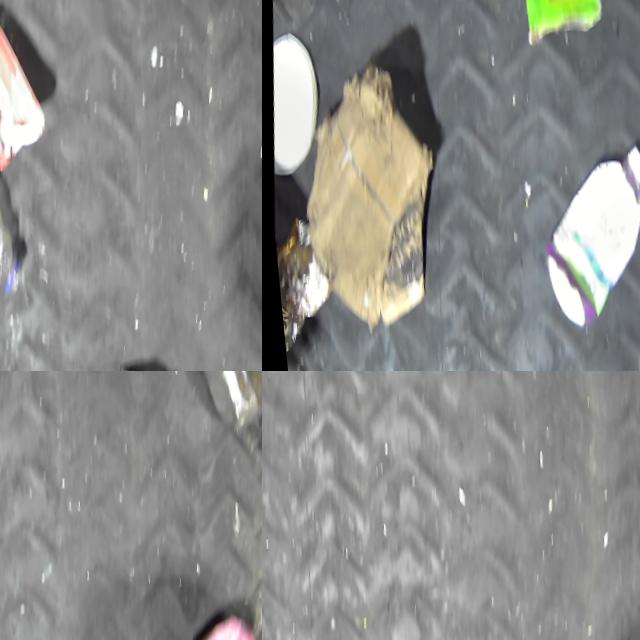can: (165, 371, 262, 448), (165, 614, 249, 640)
plastic_bottle: (0, 134, 26, 309)
